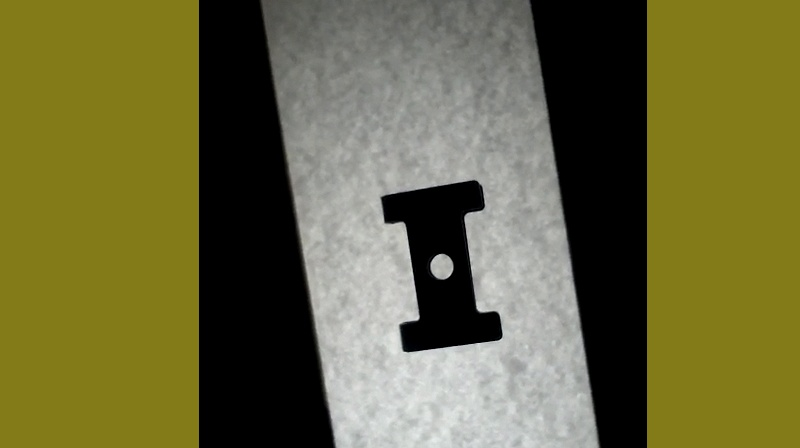O002: (378, 176, 503, 354)
